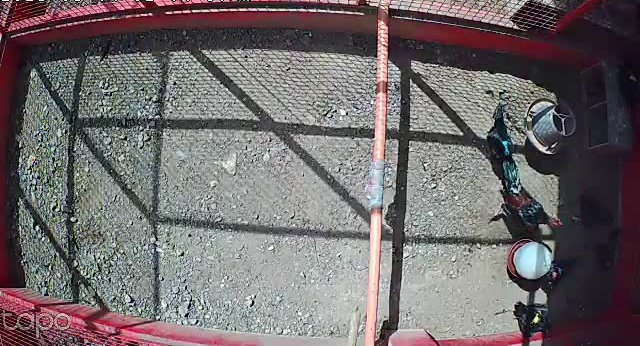Chicken: (565, 186, 622, 231), (509, 296, 558, 339), (483, 102, 519, 159), (535, 251, 578, 293), (586, 227, 626, 272)
Rooster: (485, 147, 573, 236)
Saddle_Color_Blue: (500, 140, 510, 148)
Saddle_Color_Yellow: (530, 310, 544, 325)
